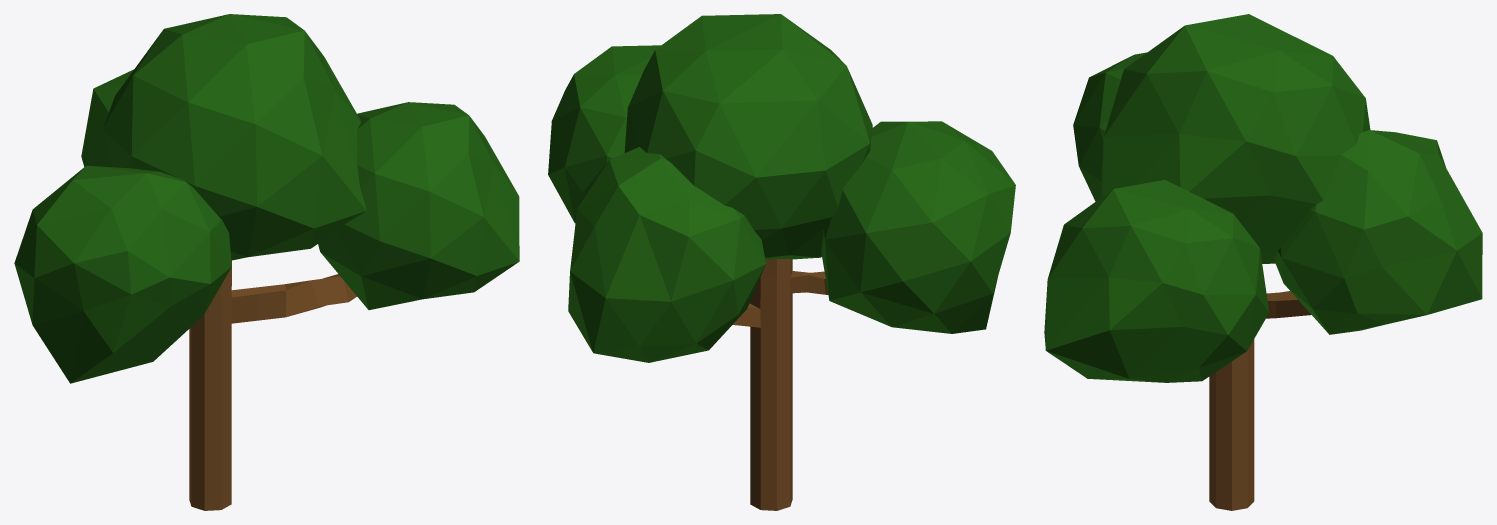
The model's file is Tree_1.fbx.
The picture shows the model from 3 angles, left to right: view 1: azimuth 30°, elevation 25°; view 2: azimuth 150°, elevation 25°; view 3: azimuth 270°, elevation 25°; orthographic projection. The views are drawn at different scales.
Visible parts, largest first — view 1: Tree3; view 2: Tree3; view 3: Tree3.
Part boxes in pixels (<box>): Tree3: <box>14,14,519,510</box>; Tree3: <box>548,14,1015,510</box>; Tree3: <box>1044,14,1482,510</box>.
Bounding box in the file's own units: 276 × 271 × 223.
